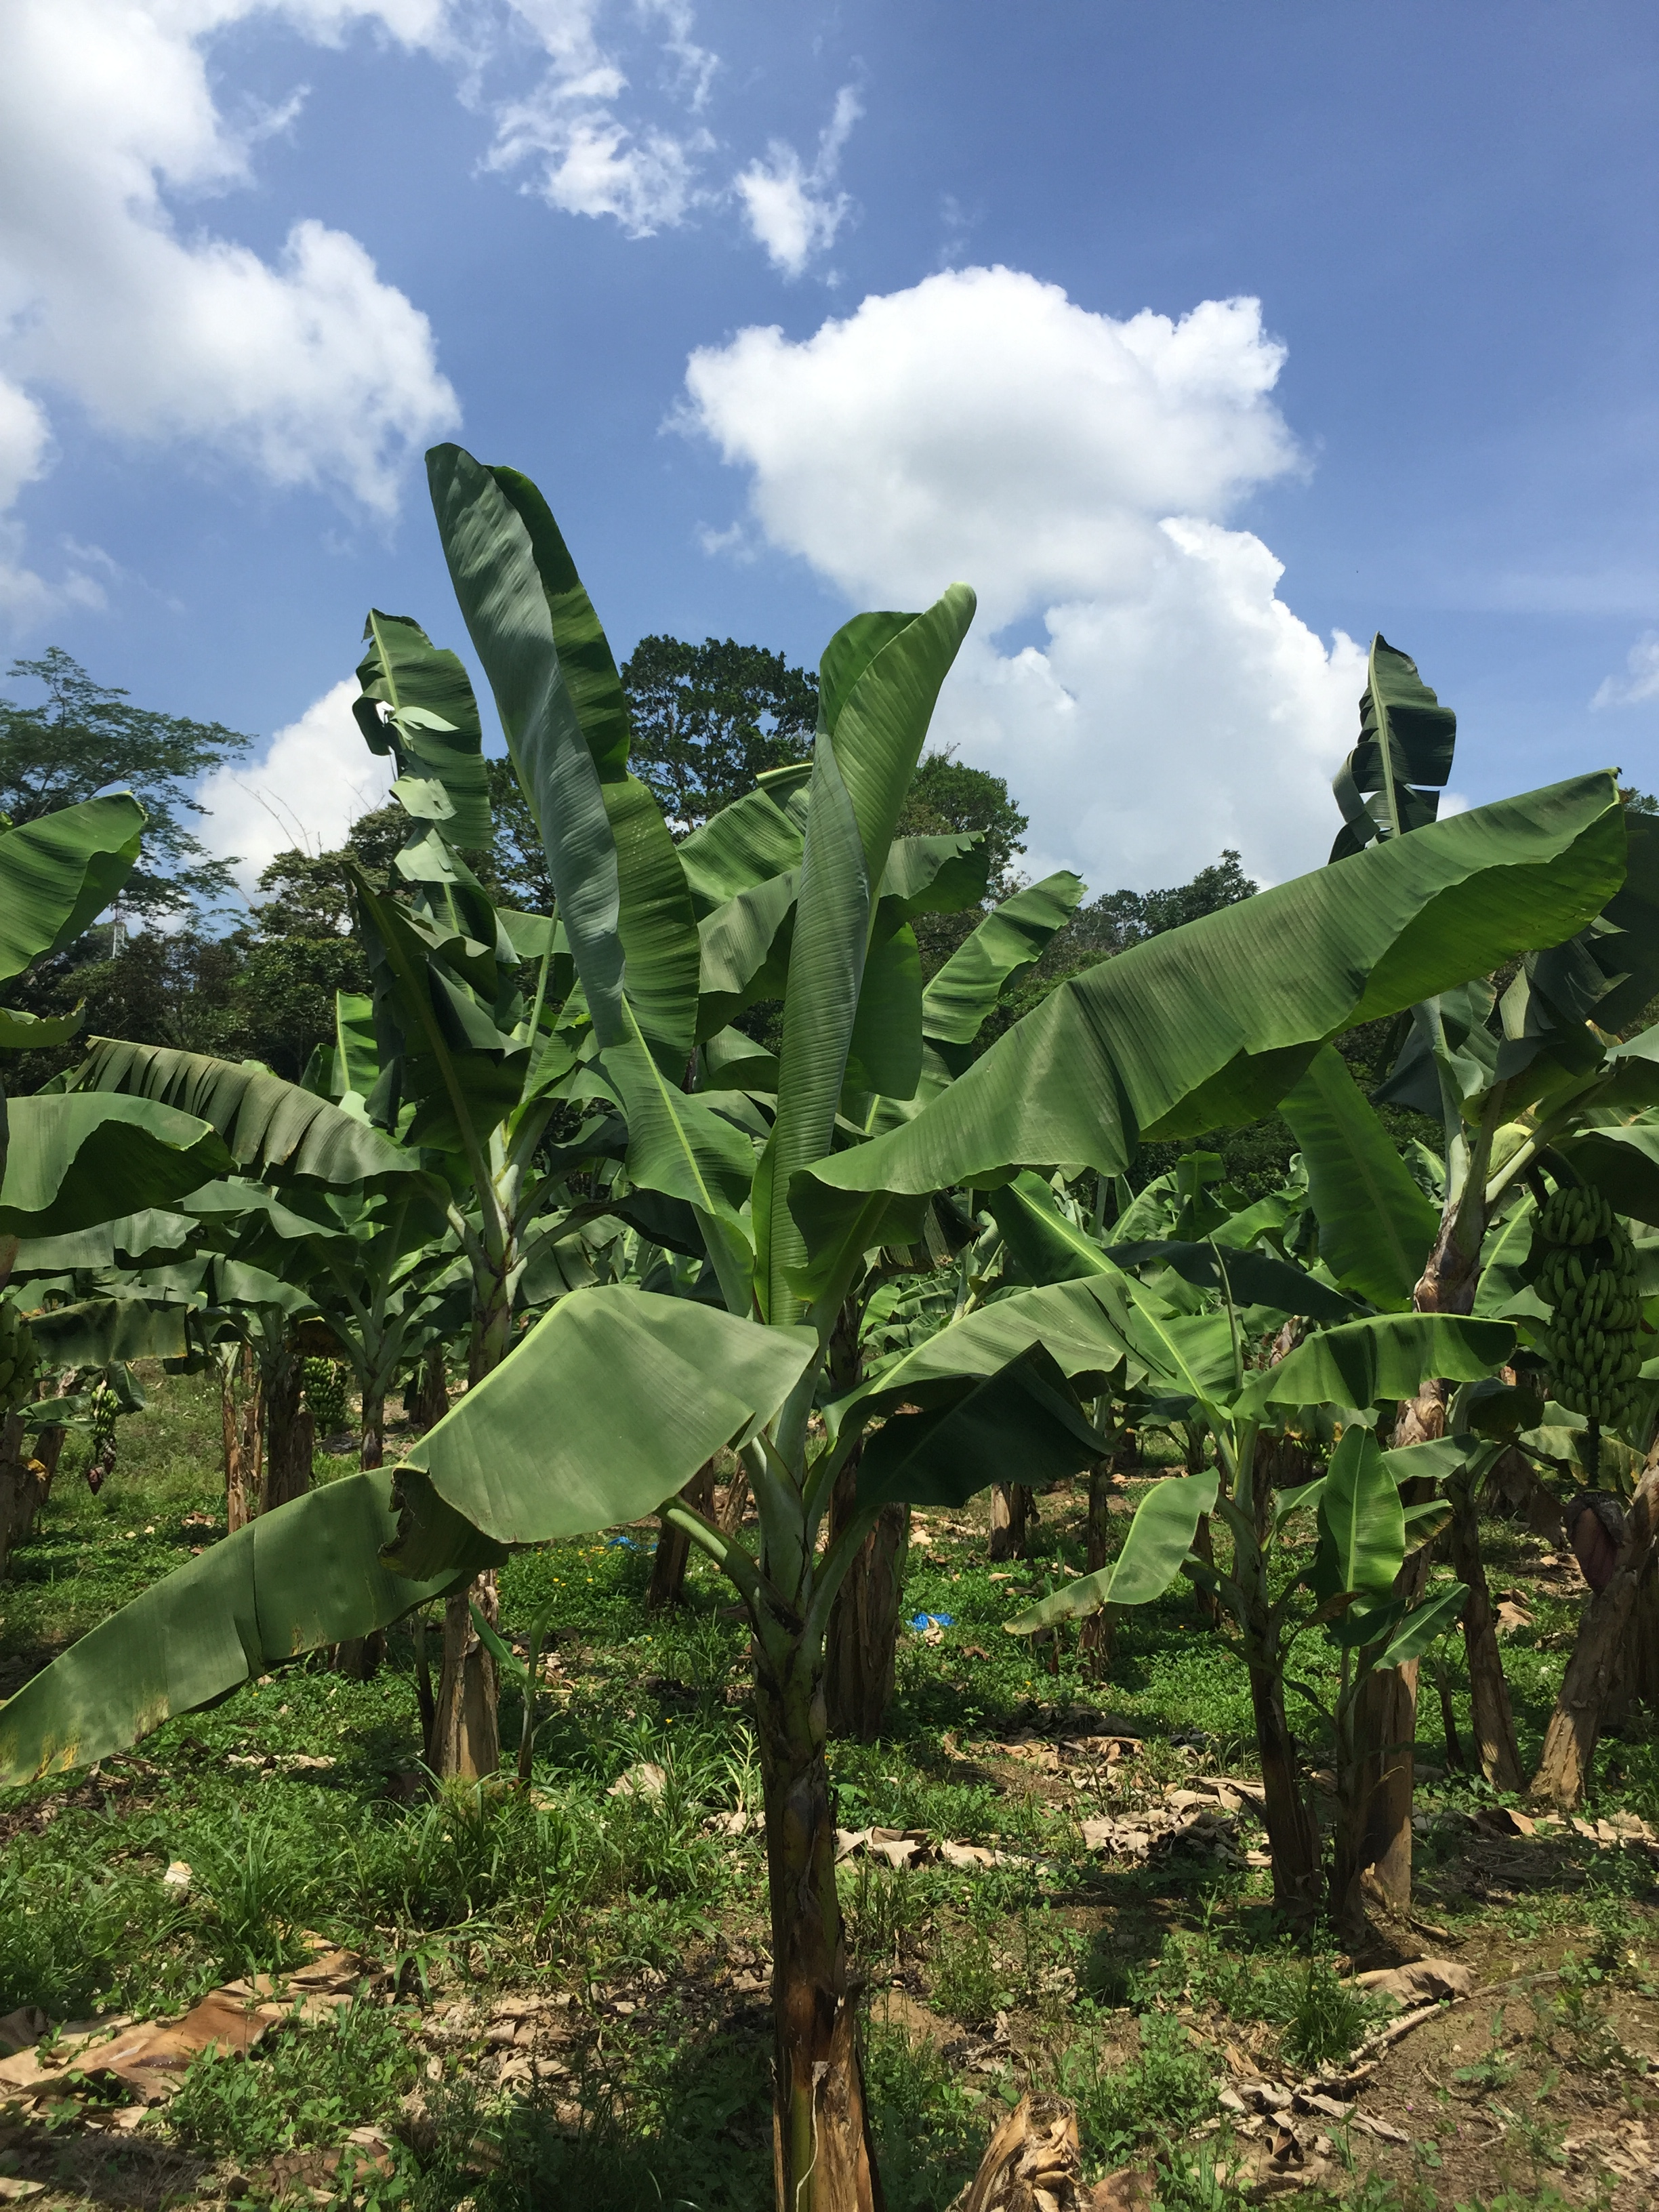candleleafs: (758, 594, 976, 1312), (1208, 1235, 1243, 1393)
